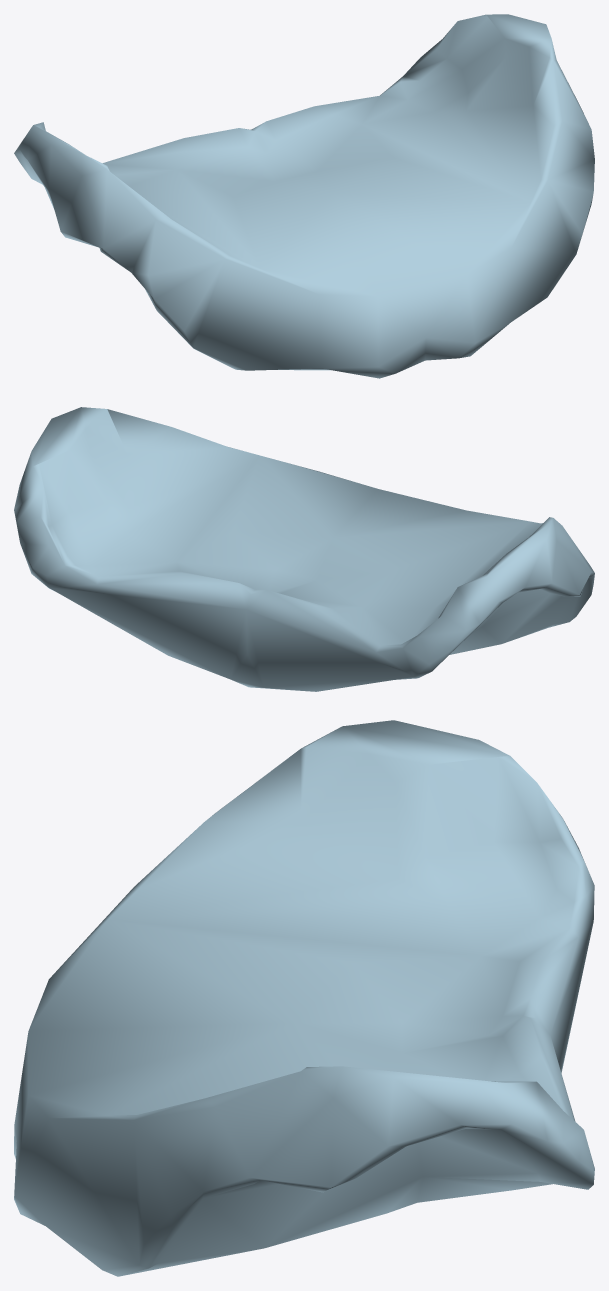
Rendered from articulacoes-intervertebral-disc-c3-c4.glb.
3 views of the same model, one above another, from view 1: azimuth 30°, elevation 25°; view 2: azimuth 150°, elevation 25°; view 3: azimuth 270°, elevation 25° (orthographic). The views are drawn at different scales.
Visible parts, largest first — view 1: Intervertebral disc C3-C4; view 2: Intervertebral disc C3-C4; view 3: Intervertebral disc C3-C4.
Boxes of the visible parts, box(x1,y1,x2,y2) form: Intervertebral disc C3-C4: box(14, 14, 594, 378); Intervertebral disc C3-C4: box(14, 407, 594, 691); Intervertebral disc C3-C4: box(14, 720, 594, 1276).
Size of the model in its own units: 0.0242 by 0.00858 by 0.0159.
